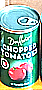tomatoes: (1, 5, 40, 88)
